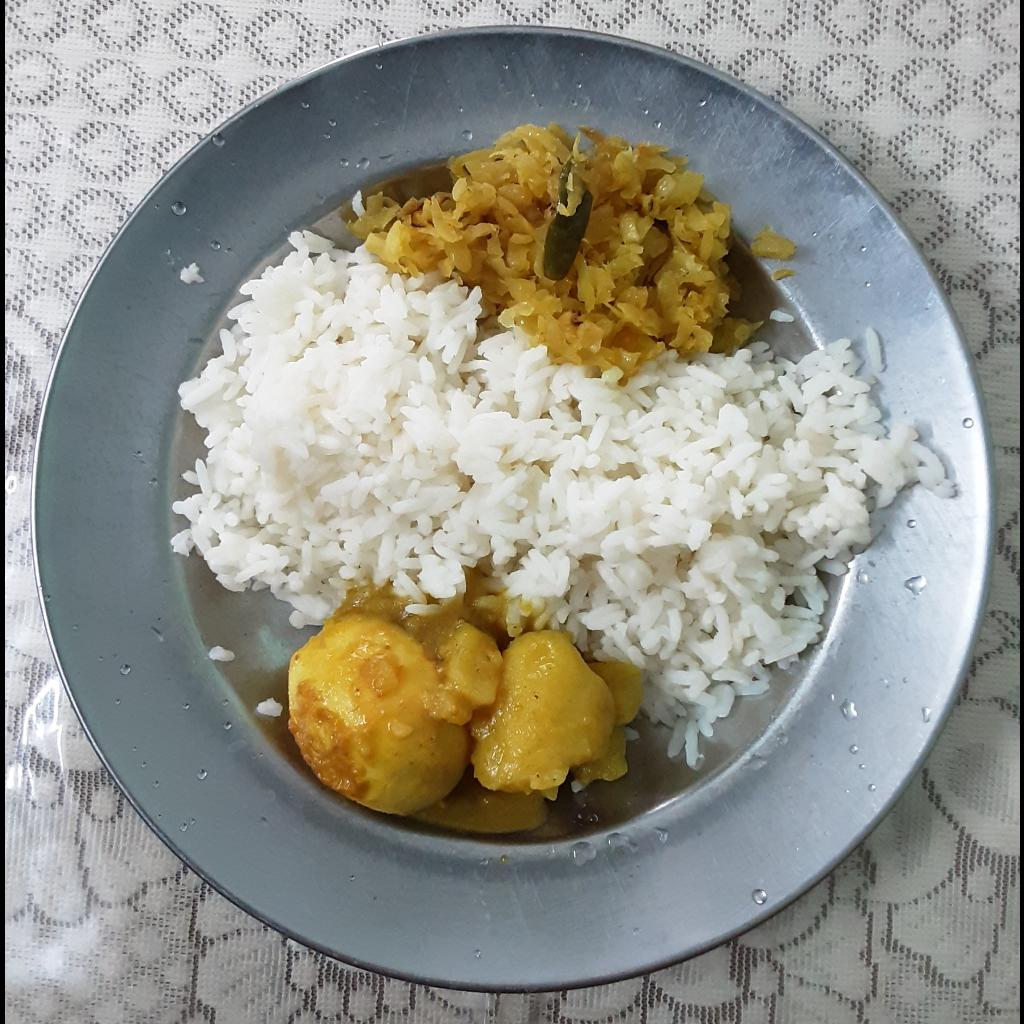chichinga-vaji: (345, 123, 799, 385)
egg-boiled: (283, 612, 463, 813)
potato: (334, 577, 657, 834)
rice: (164, 232, 960, 783)
